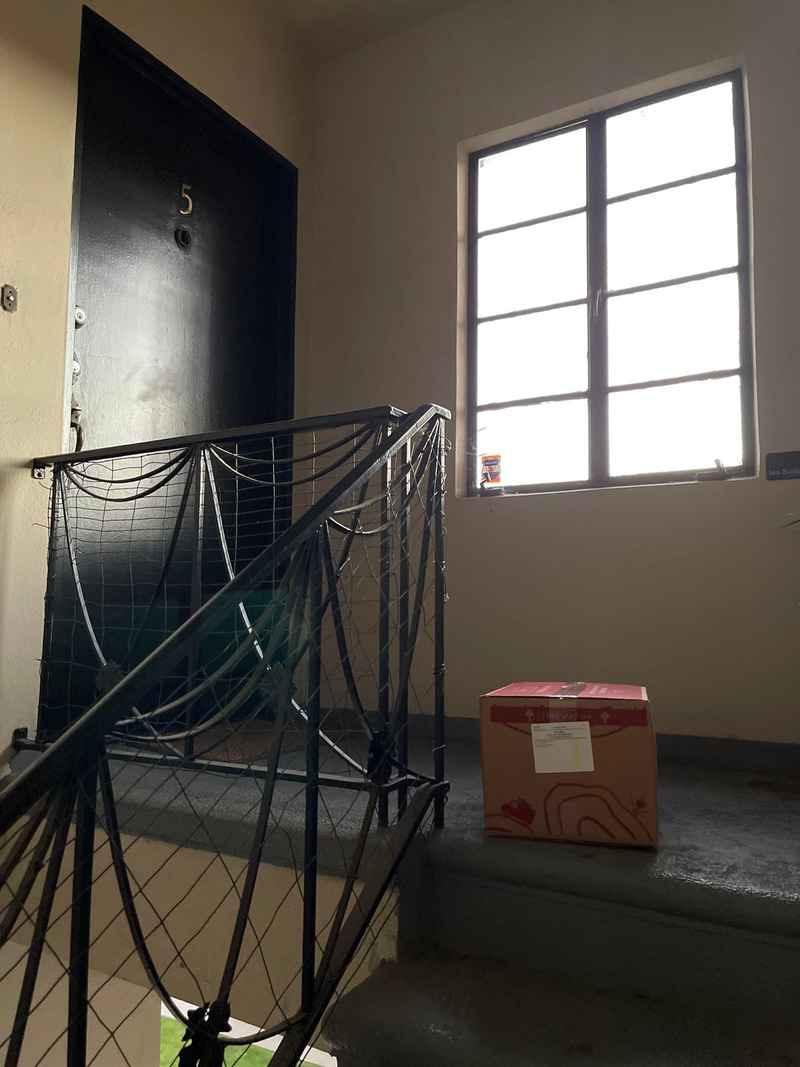package: (473, 676, 674, 854)
